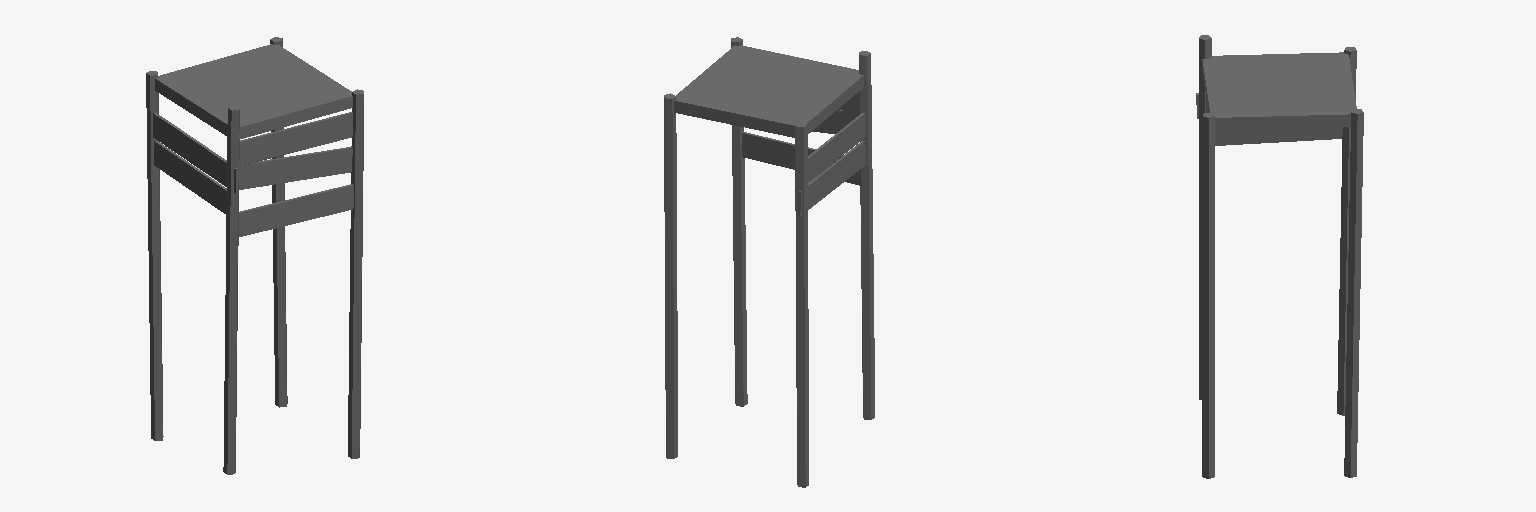
Rendered from plateforme01.obj.
3 views of the same model, side by side, from view 1: azimuth 30°, elevation 25°; view 2: azimuth 150°, elevation 25°; view 3: azimuth 270°, elevation 25° (orthographic).
Size of the model in its own units: 1.26 by 3.13 by 1.26.